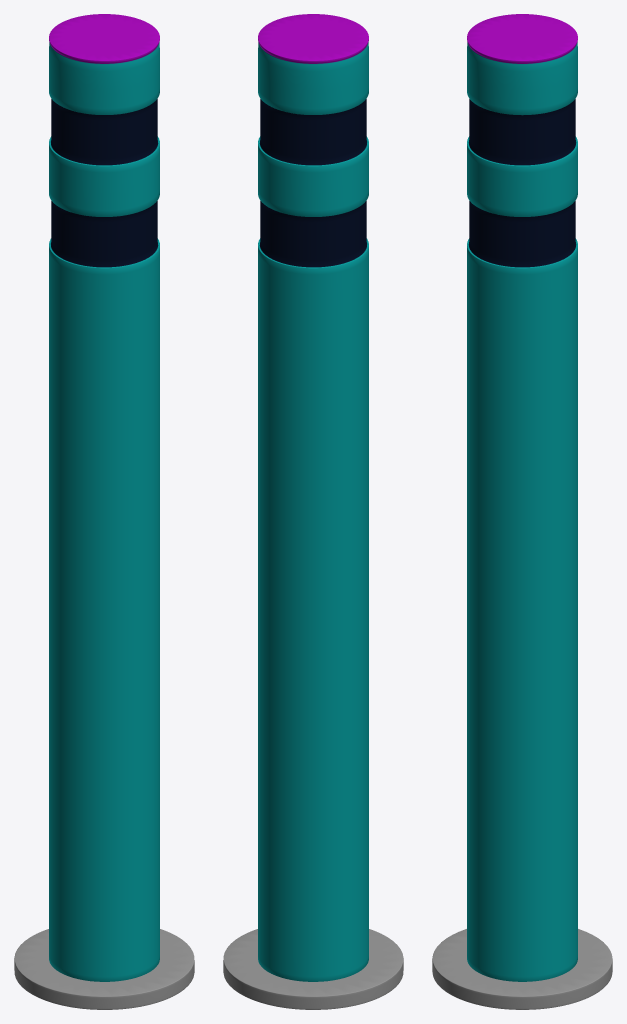
File: TrafficBlockBar.obj
The picture shows the model from 3 angles, left to right: view 1: azimuth 30°, elevation 25°; view 2: azimuth 150°, elevation 25°; view 3: azimuth 270°, elevation 25°; orthographic projection.
Visible parts, largest first — view 1: Box002; view 2: Box002; view 3: Box002.
Part boxes in pixels (x1,y1,x2,y2): Box002: (14, 14, 194, 1009); Box002: (223, 14, 403, 1009); Box002: (432, 14, 612, 1009).
Size of the model in its own units: 11.92 by 68.25 by 11.92.
